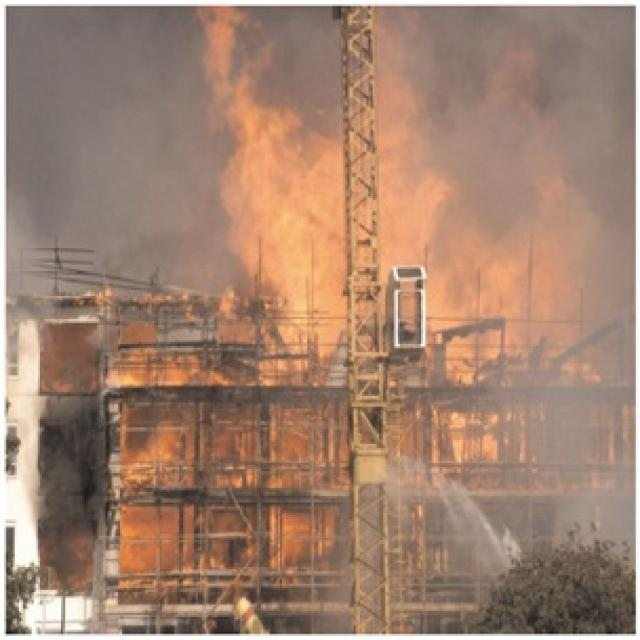fire: (228, 118, 349, 312), (376, 148, 433, 281)
